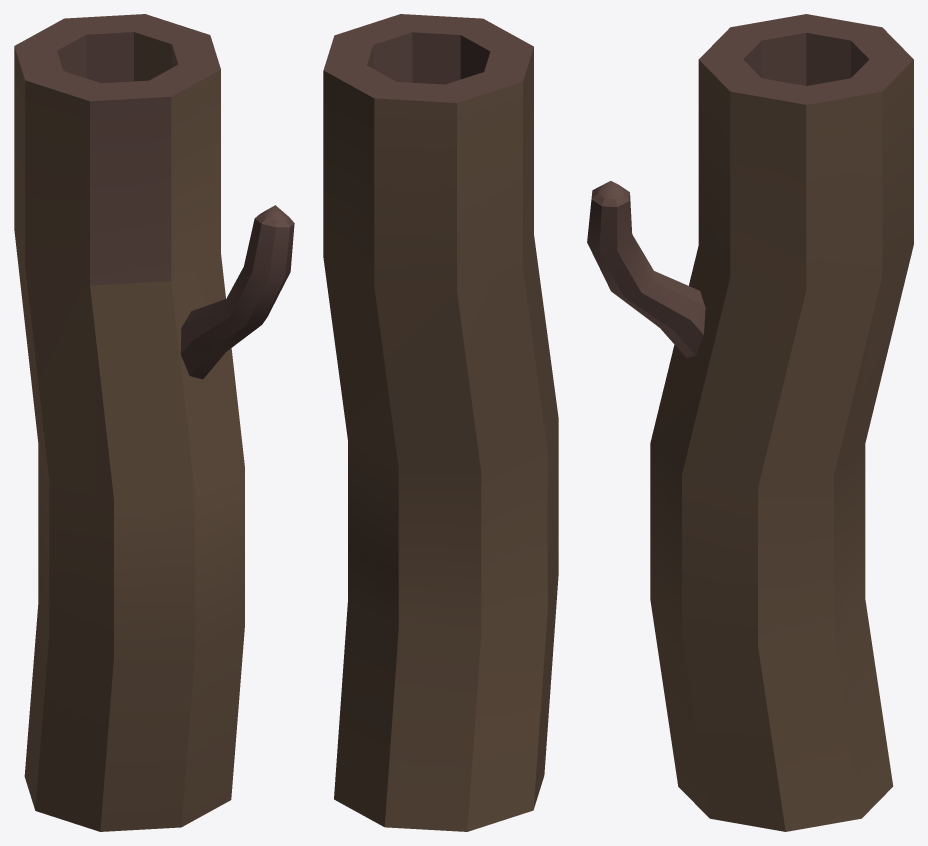
The model's file is BOIS-debout_MAYA.fbx.
The picture shows the model from 3 angles, left to right: view 1: azimuth 30°, elevation 25°; view 2: azimuth 150°, elevation 25°; view 3: azimuth 270°, elevation 25°; orthographic projection.
Visible parts, largest first — view 1: Dead_trunk_002; view 2: Dead_trunk_002; view 3: Dead_trunk_002.
Boxes of the visible parts, <box> form: Dead_trunk_002: <box>14,14,294,831</box>; Dead_trunk_002: <box>323,14,558,831</box>; Dead_trunk_002: <box>587,14,913,831</box>.
Size of the model in its own units: 2.29 by 8.53 by 3.48.
